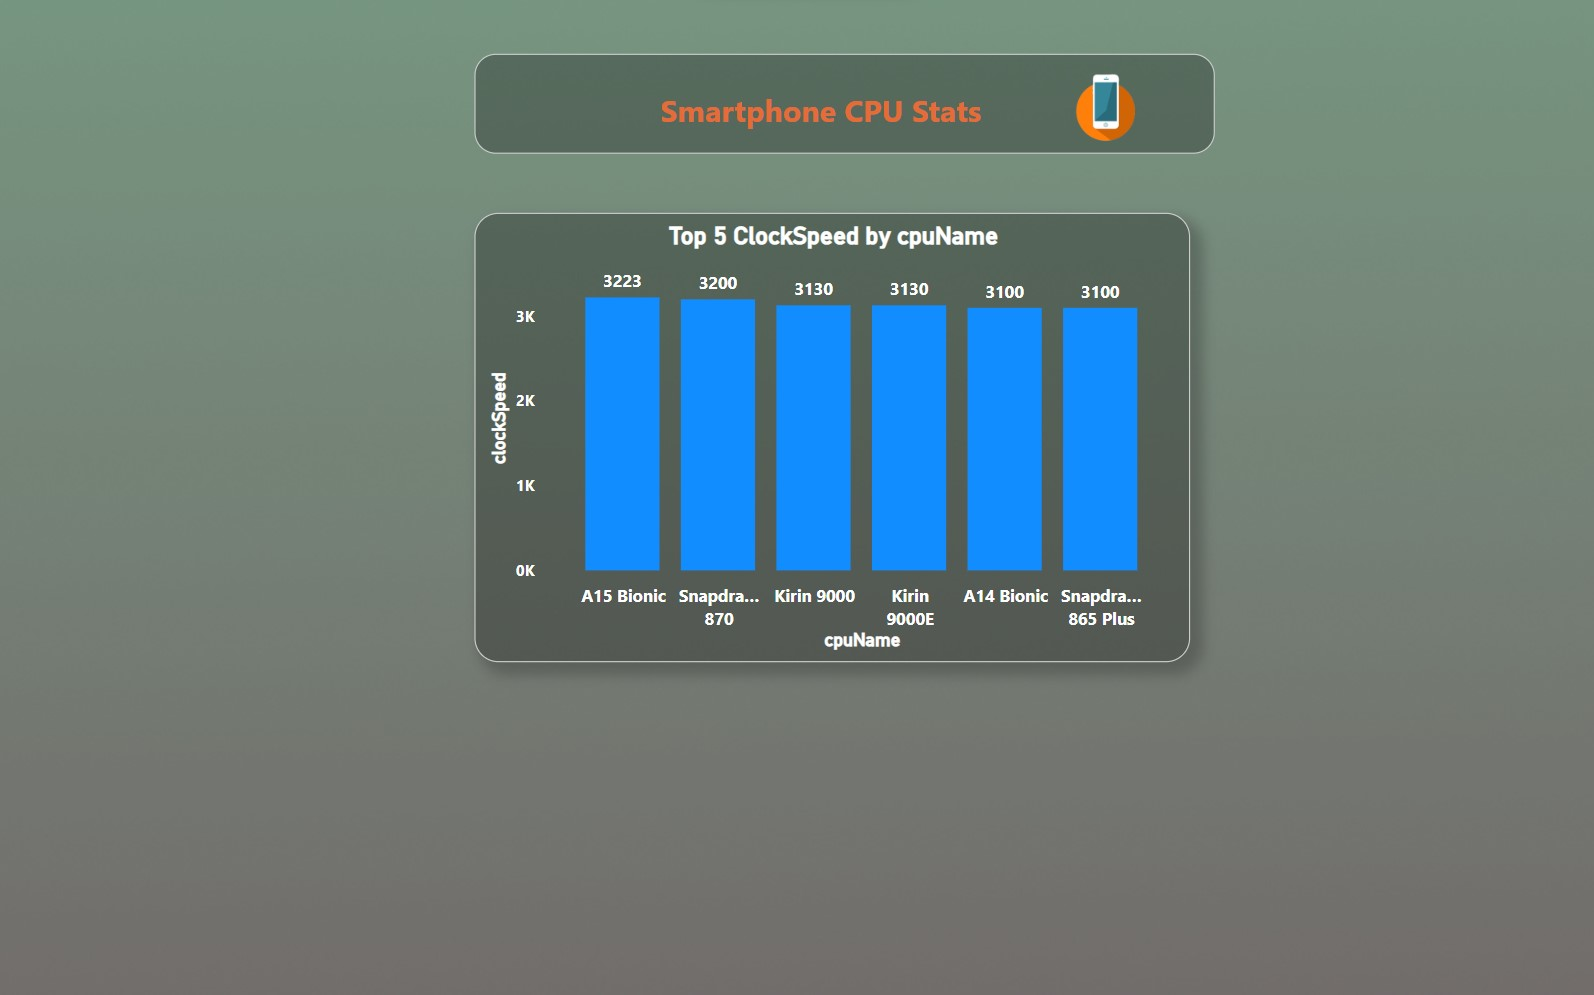

Layout of this report page (visuals, bound fields, positions):
{"tool":"powerbi","page":{"name":"smartphone data viz","canvas":[1280,795],"ordinal":2},"visuals":[{"type":"clusteredColumnChart","title":"Top 5 ClockSpeed by cpuName","fields":{"Y":["Sum(smartphone_cpu_stats.clockSpeed)"],"Category":["smartphone_cpu_stats.cpuName"]},"box":[388.7,169.4,568.8,357.4],"z":0},{"type":"textbox","box":[388.7,43.1,588.4,79.3],"z":1},{"type":"image","box":[824.4,52.9,133.2,65.6],"z":2}]}

Visuals, with their boxes in screenshot pixels (x1, y1, x2, y2), scaled from the page's 1280x795 canvas onto the 1594x995 screenshot:
"Top 5 ClockSpeed by cpuName" clusteredColumnChart: Rect(484, 212, 1192, 659)
textbox: Rect(484, 54, 1217, 153)
image: Rect(1027, 66, 1193, 148)
